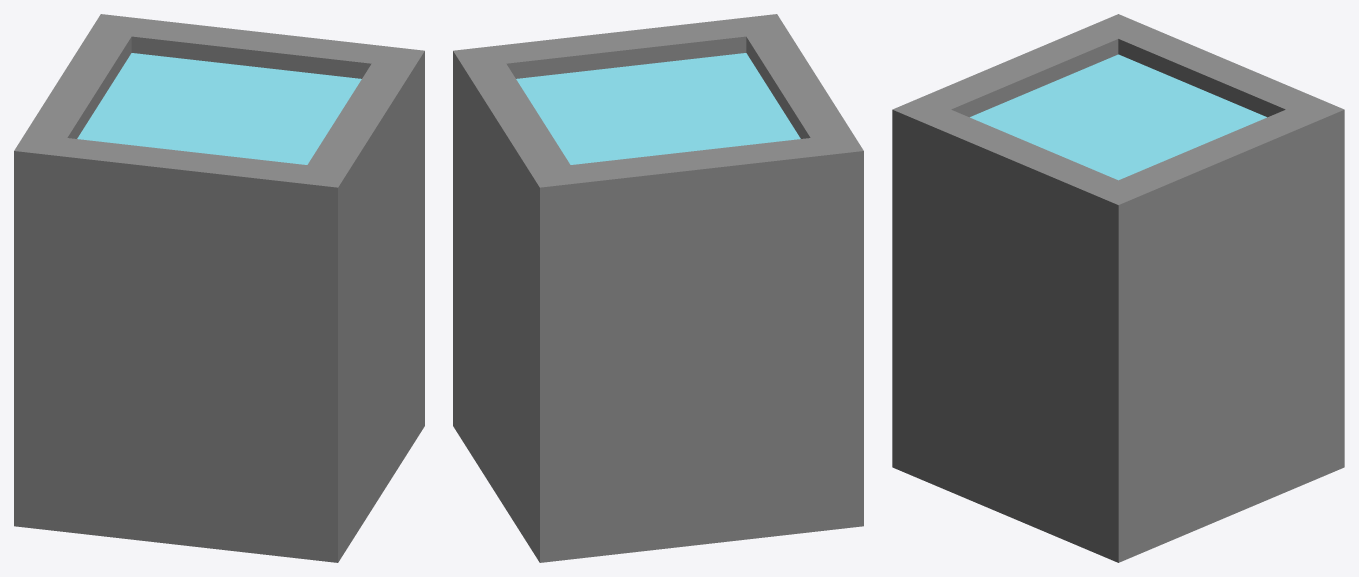
The model's file is SM_BigInterruptor.FBX.
3 renders of one model, left to right at view 1: azimuth 30°, elevation 25°; view 2: azimuth 150°, elevation 25°; view 3: azimuth 270°, elevation 25°, orthographic. The views are drawn at different scales.
Parts seen in each view (by area): view 1: SM_BigInterruptor; view 2: SM_BigInterruptor; view 3: SM_BigInterruptor.
Part boxes in pixels (<box>): SM_BigInterruptor: <box>14,14,424,562</box>; SM_BigInterruptor: <box>453,14,863,562</box>; SM_BigInterruptor: <box>892,14,1344,562</box>.
Size of the model in its own units: 309 by 270 by 309.
